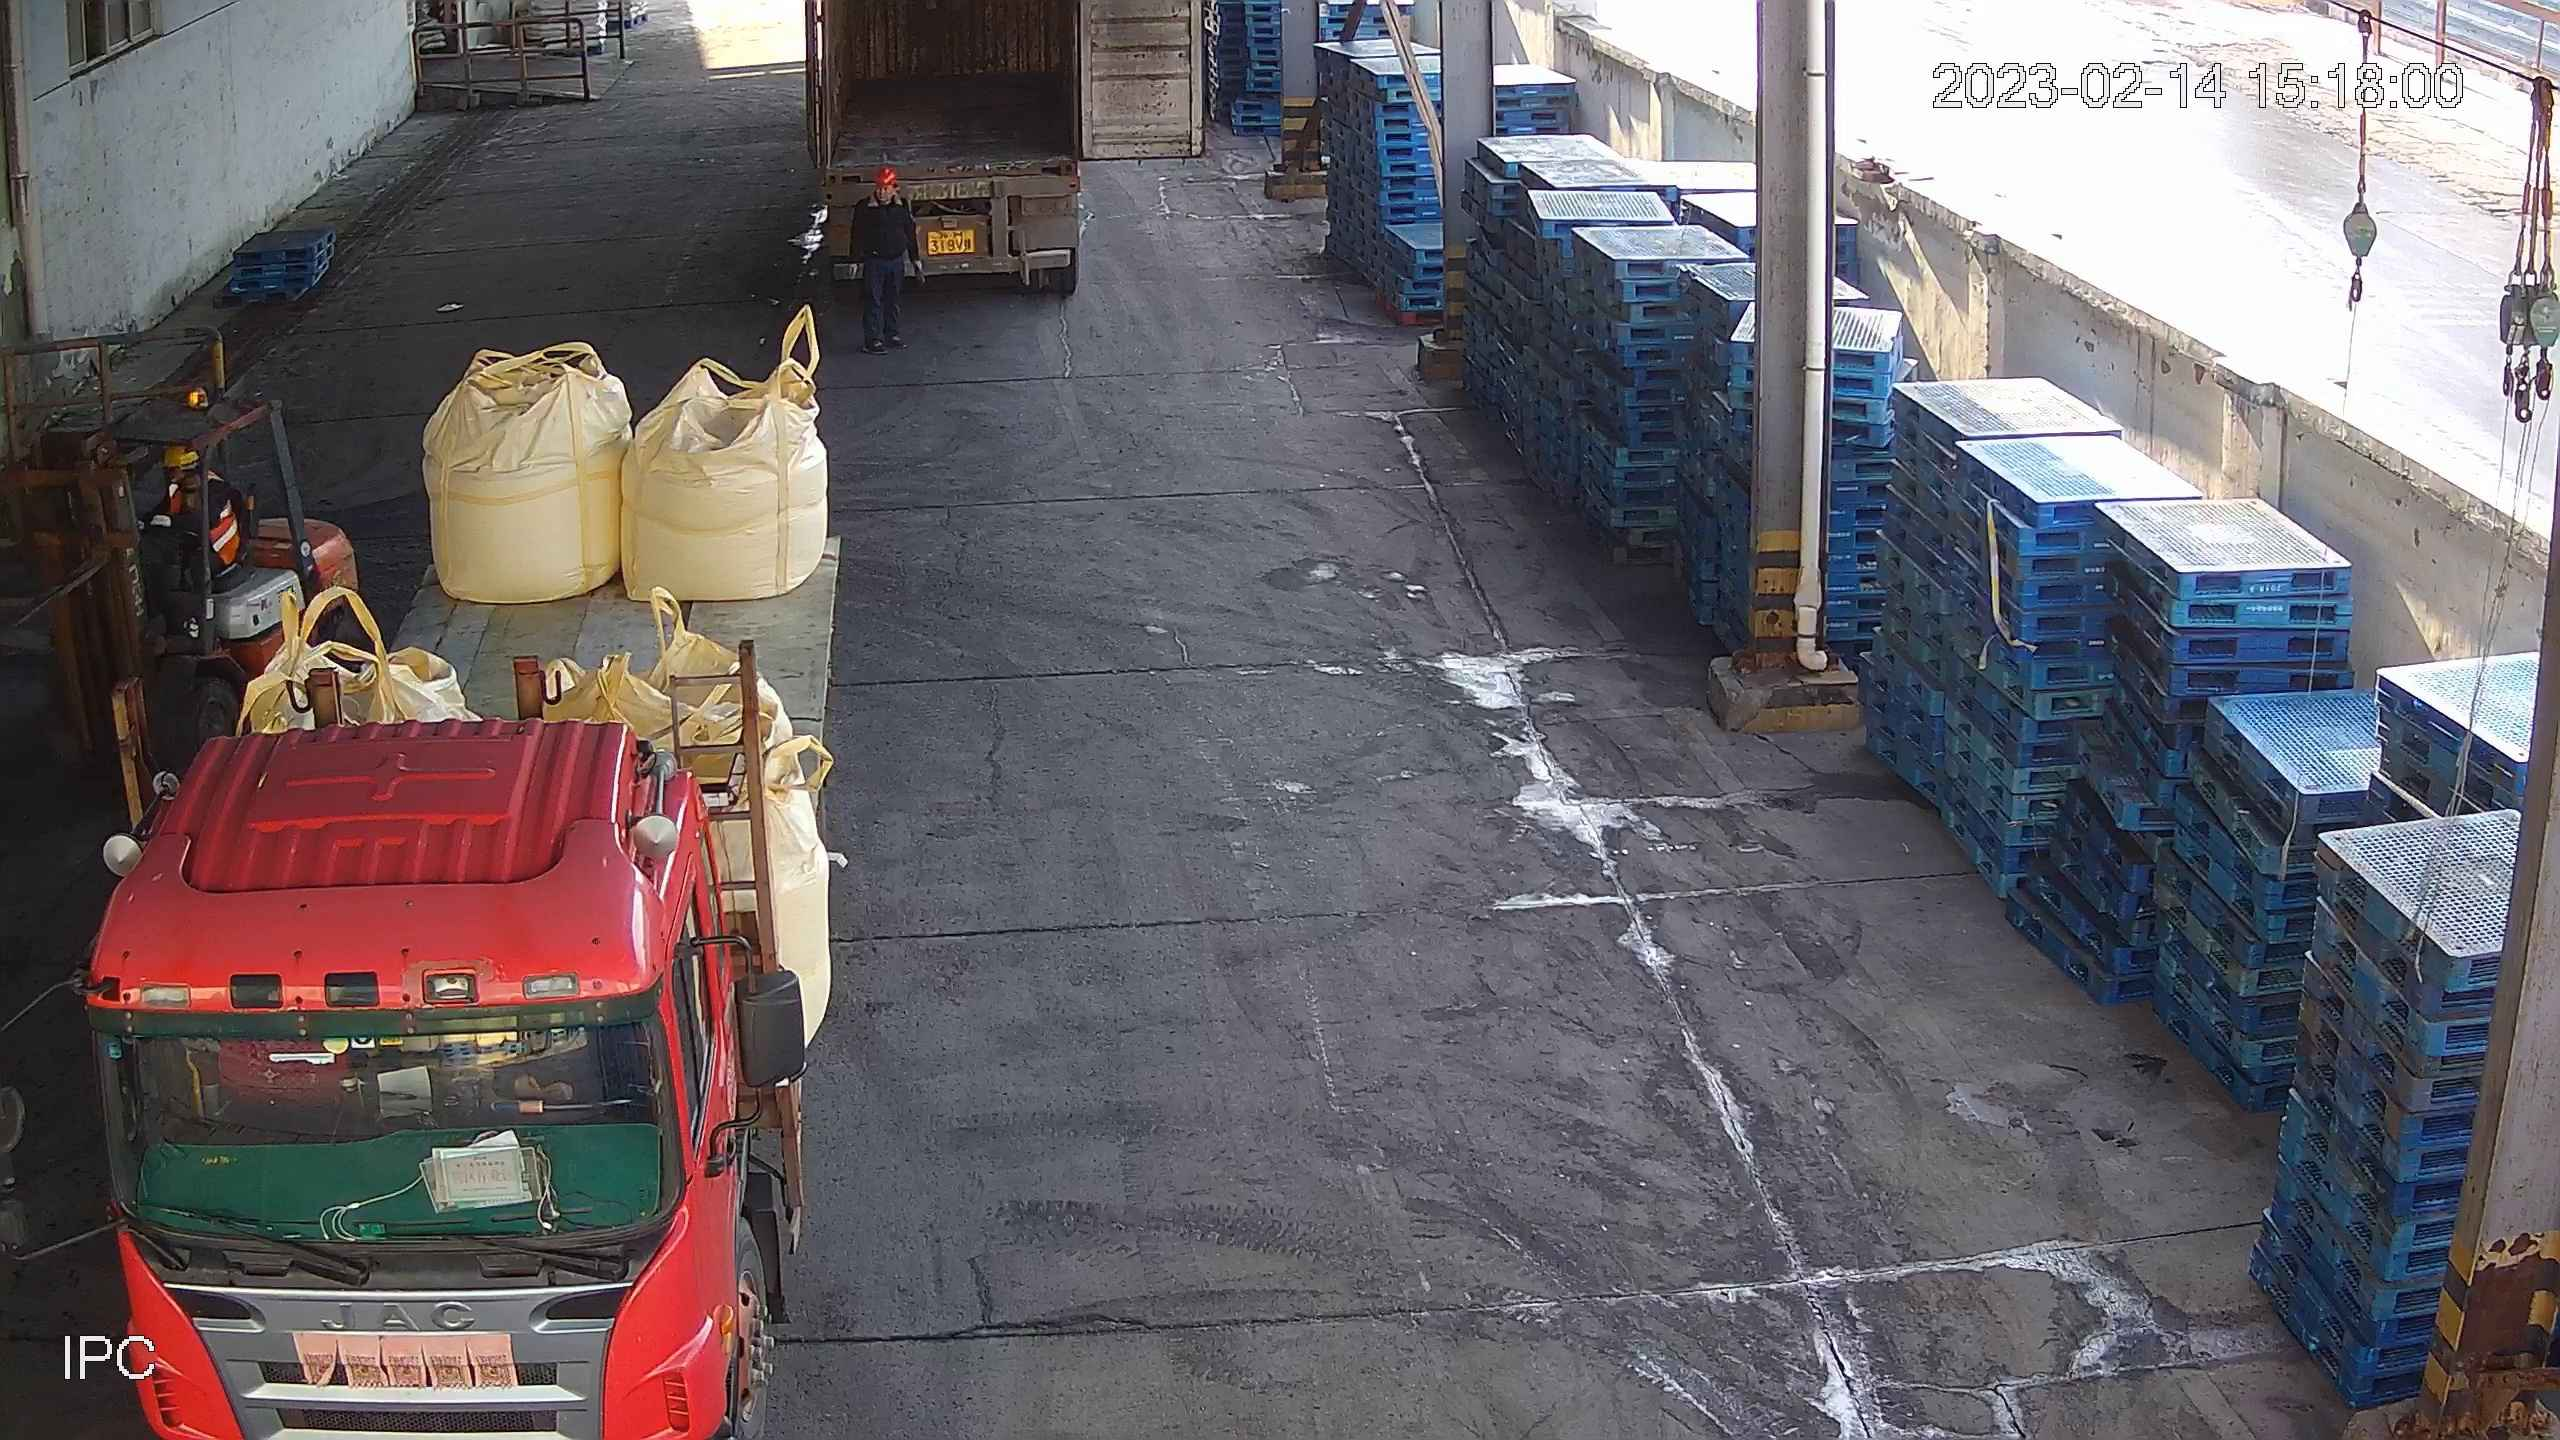head: (849, 165, 918, 232)
helmet: (163, 444, 201, 467), (875, 168, 897, 188)
people: (848, 169, 924, 356)
truck: (79, 501, 851, 1437), (795, 1, 1211, 306)
